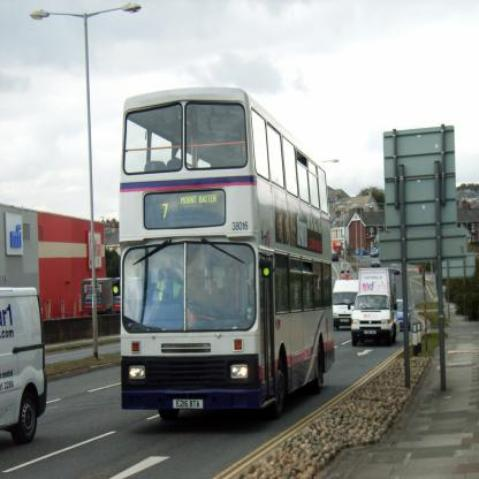bus: (89, 56, 337, 438)
truck: (351, 268, 398, 345)
van: (0, 280, 49, 445)
